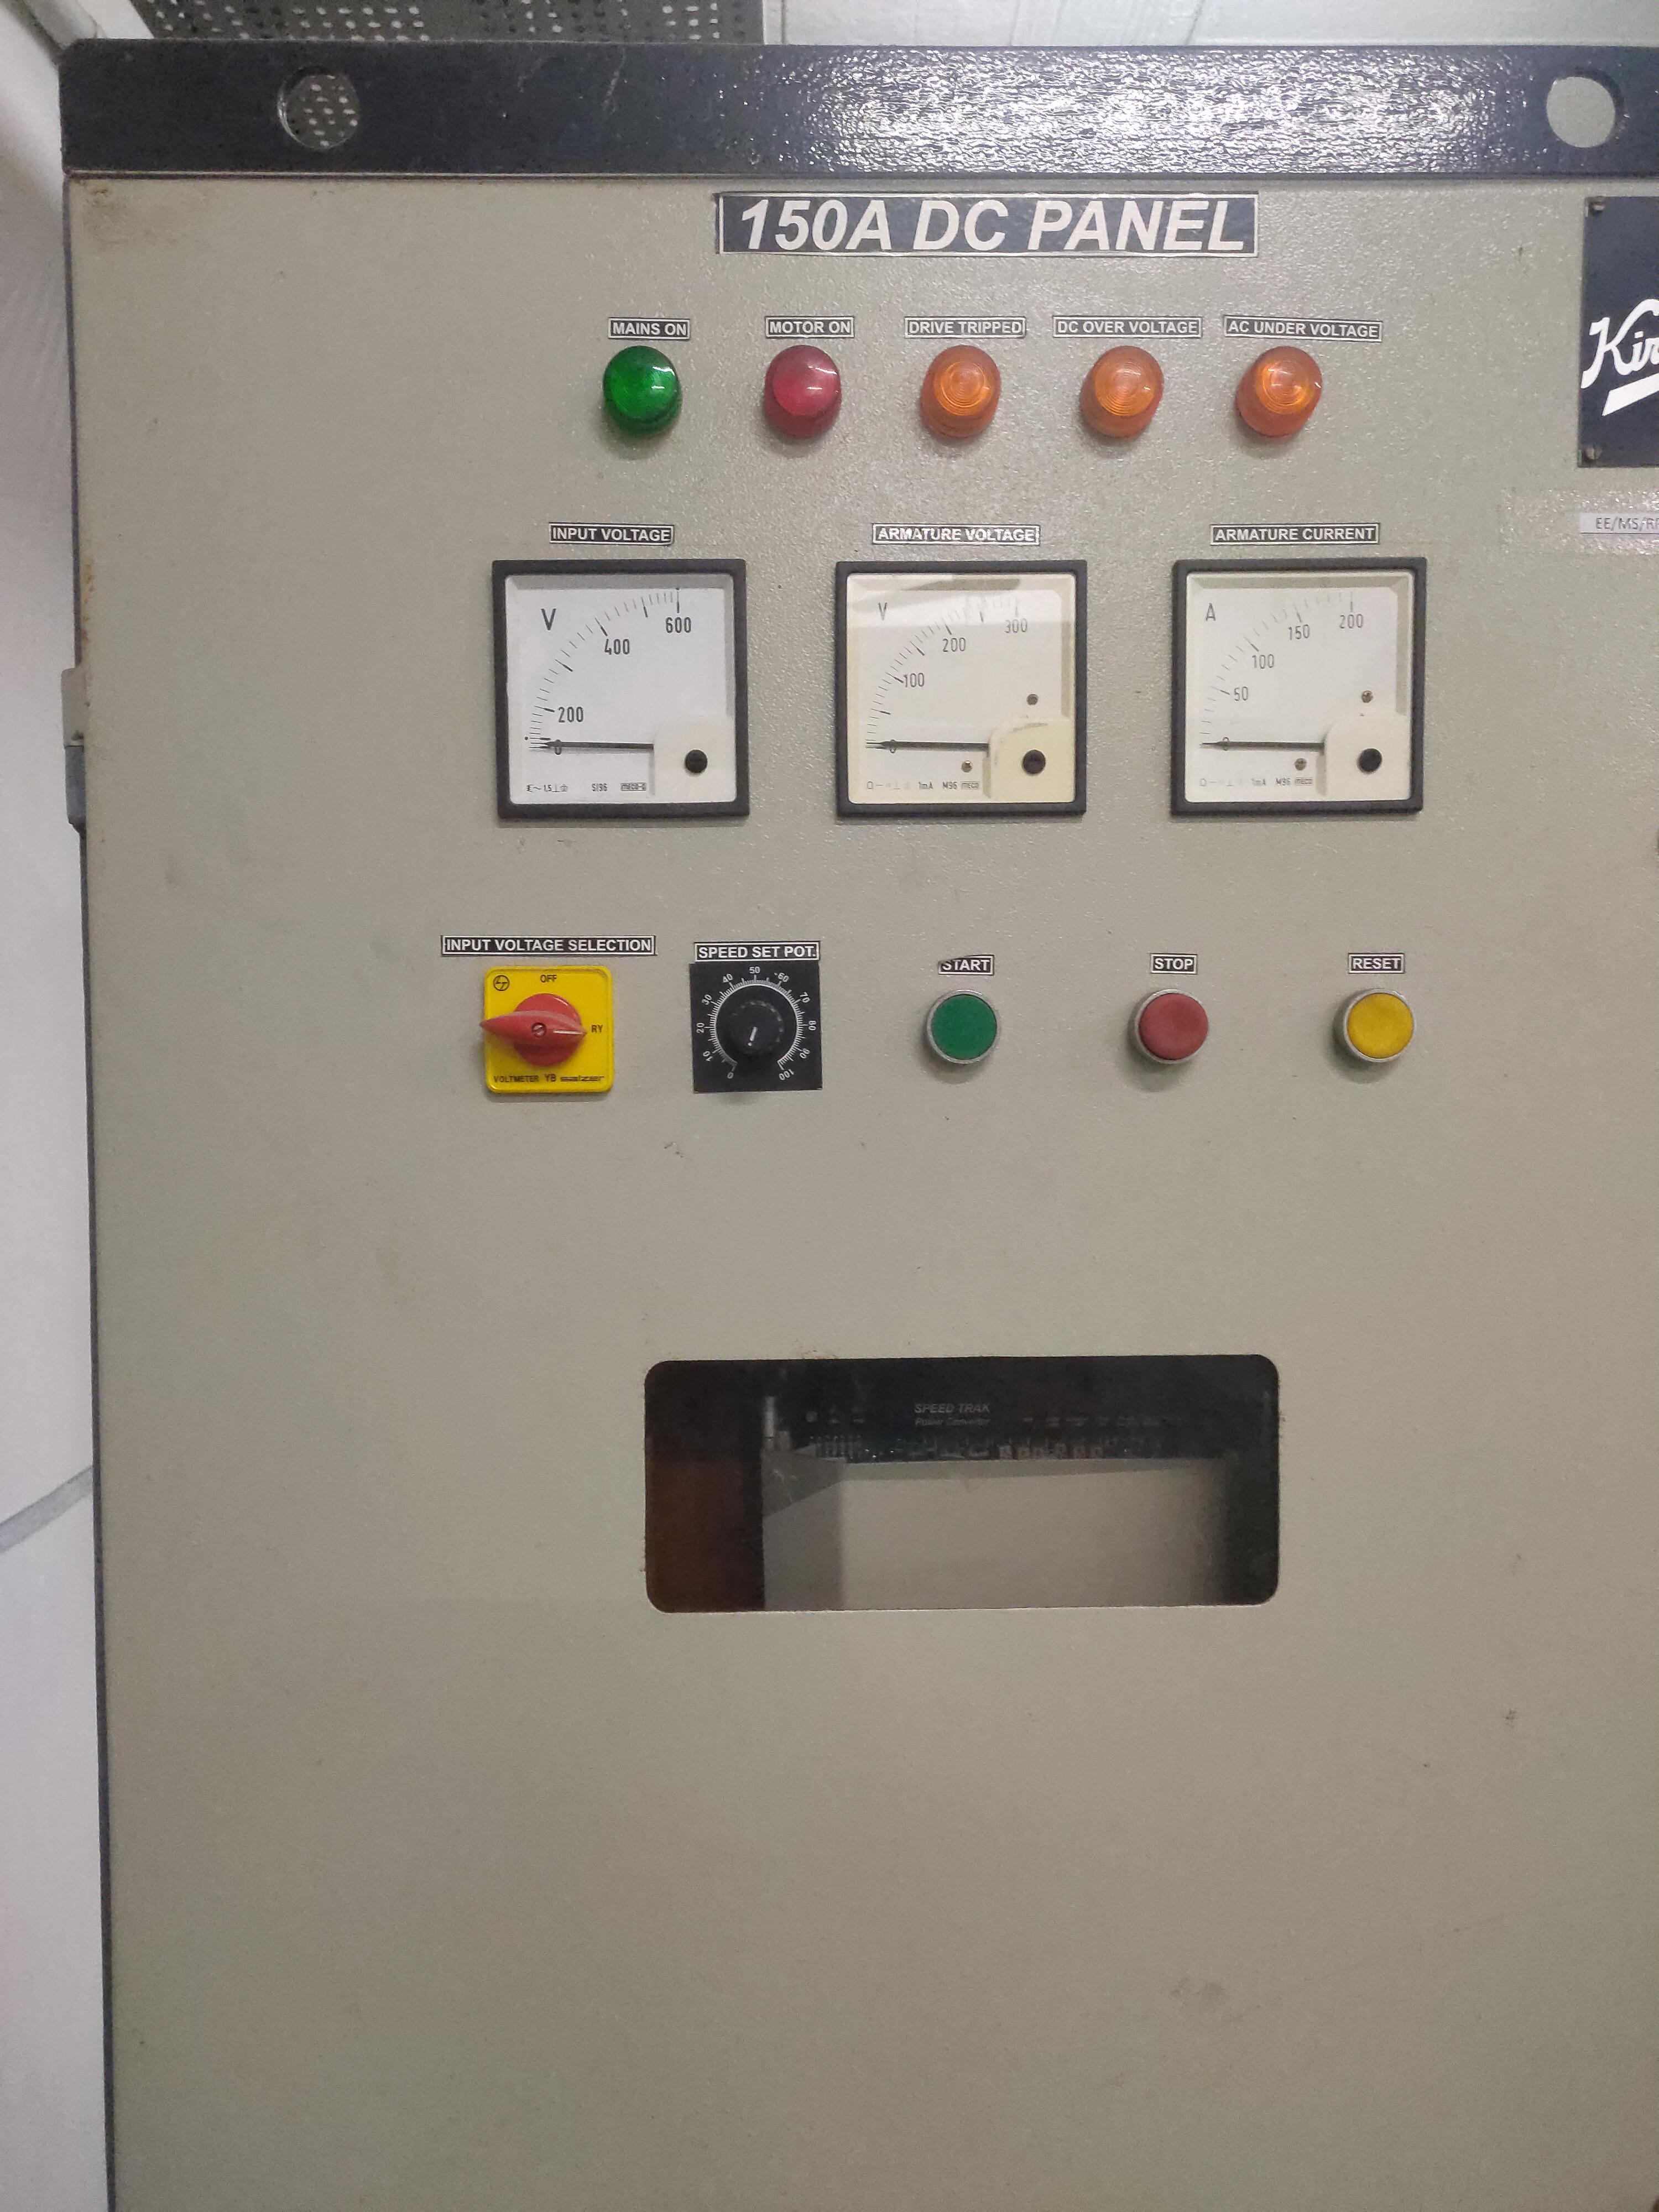Light Indications: (504, 300, 1380, 493)
